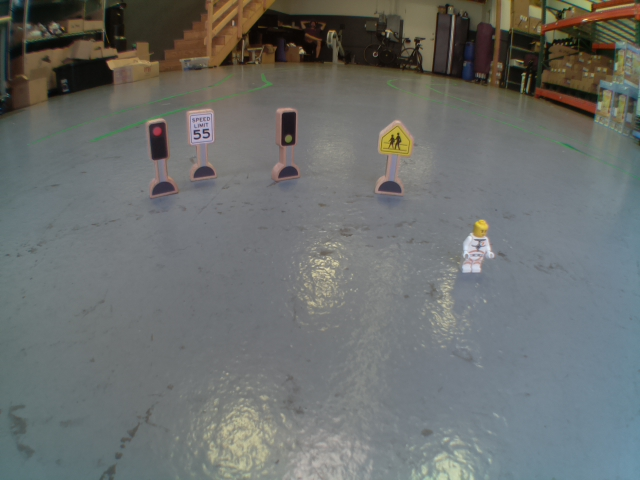Green Traffic Light: (277, 106, 301, 147)
Red Traffic Light: (145, 118, 172, 162)
Speed Limit 55: (187, 109, 216, 145)
YIELD: (377, 117, 415, 159)
person: (458, 217, 497, 274)
